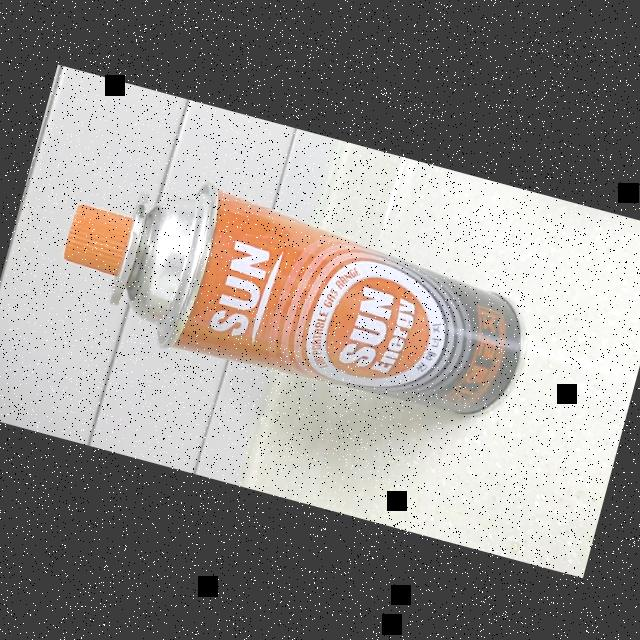chemical_spray_can: (39, 143, 552, 440)
